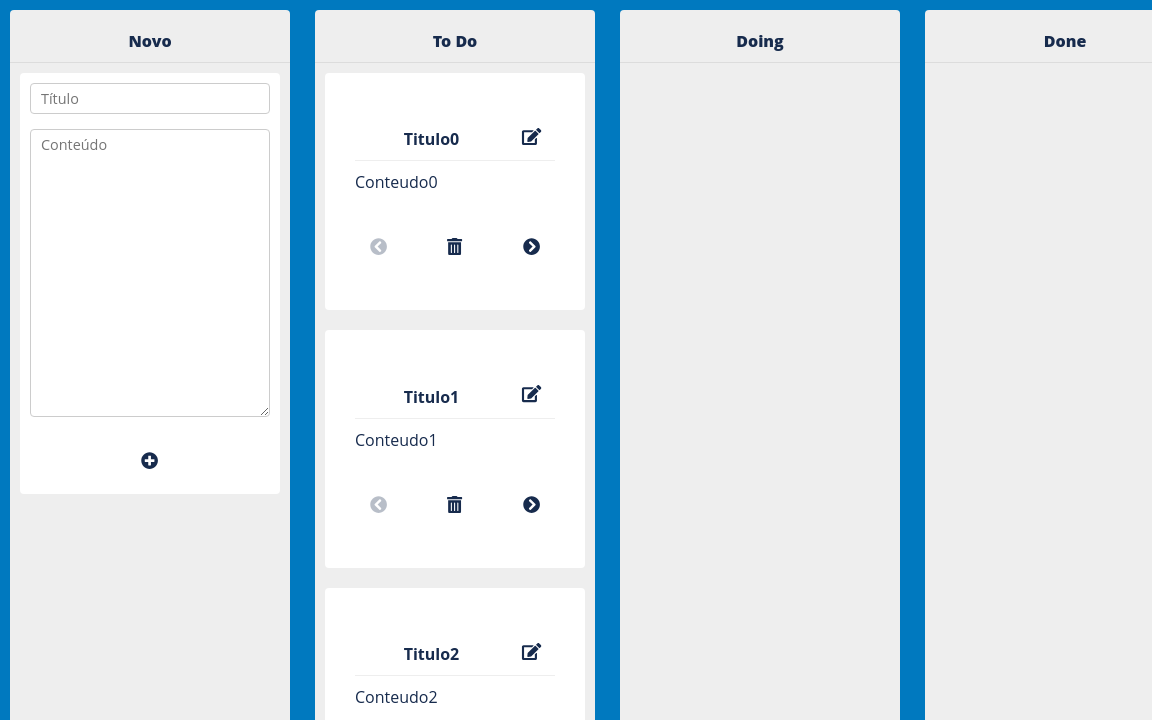
Render Board › Delete existing cards
Click the element titled "Excluir" below "Conteudo0" at x=455, y=247, box [441,233,469,260]
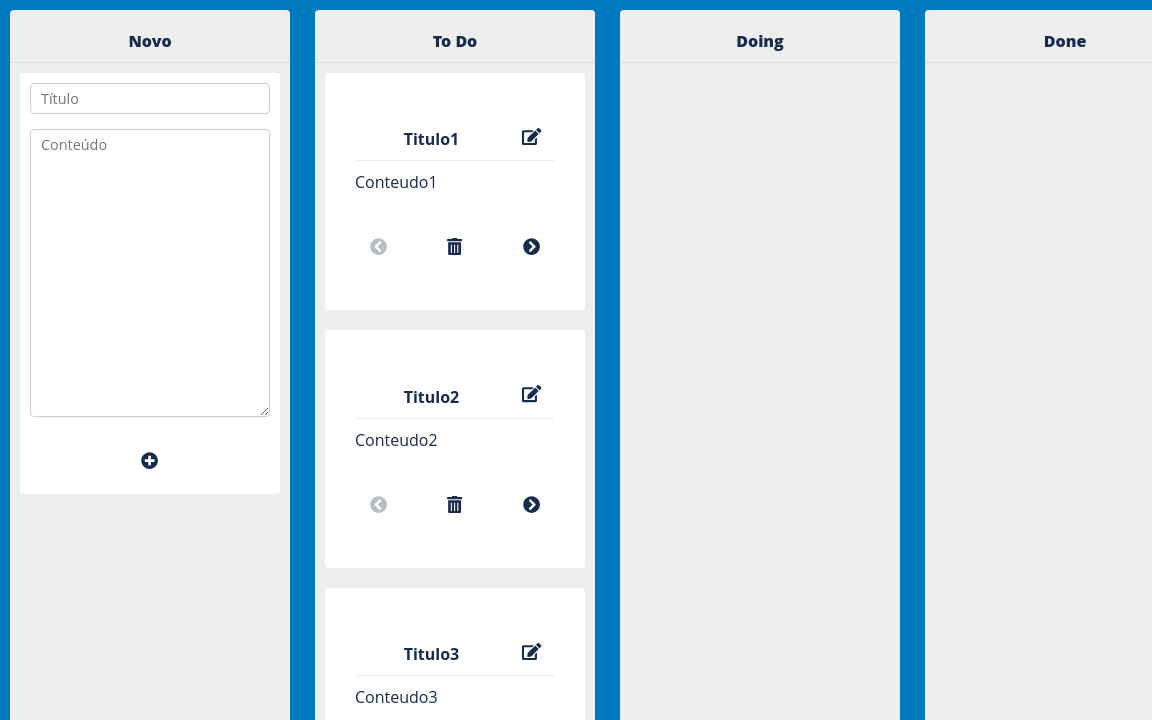
Click the element titled "Excluir" below "Conteudo1" at x=455, y=247, box [441,233,469,260]
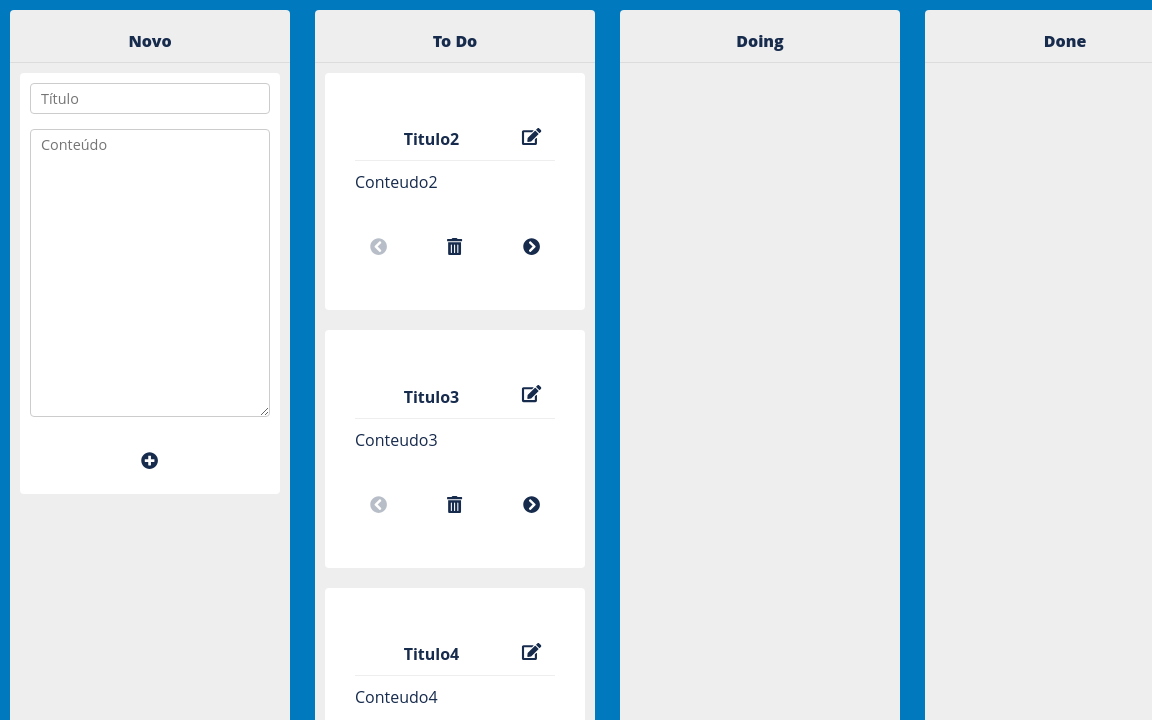
Click the element titled "Excluir" below "Conteudo2" at x=455, y=247, box [441,233,469,260]
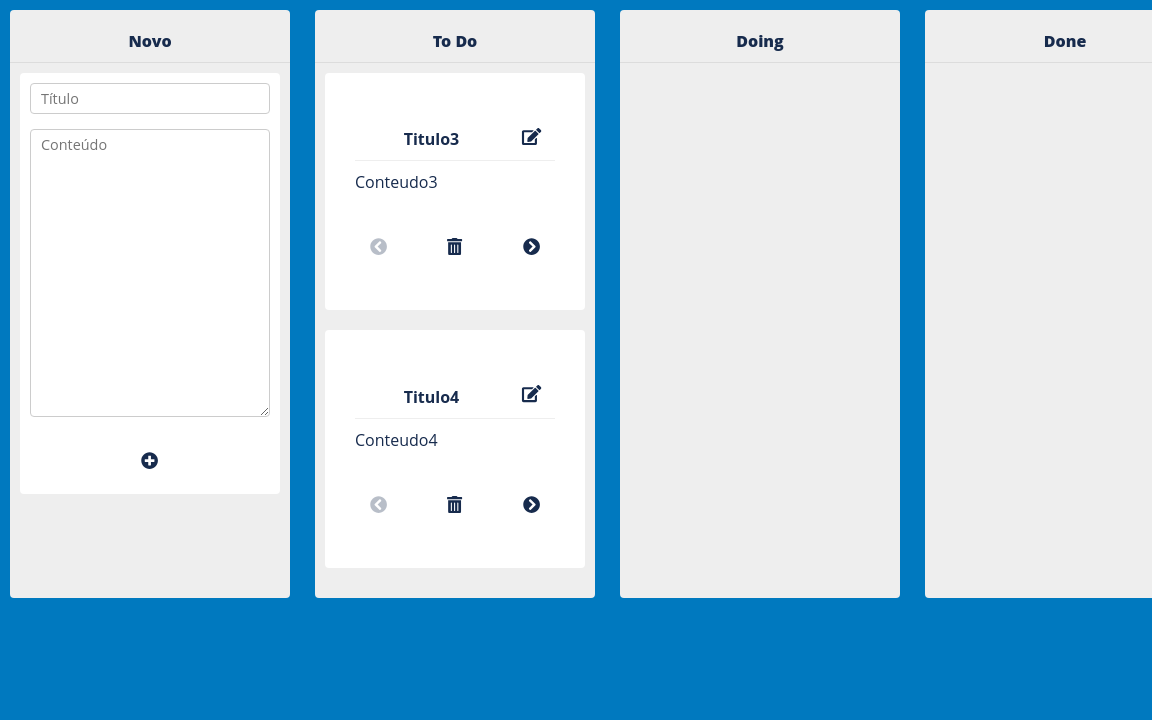
Click the element titled "Excluir" below "Conteudo3" at x=455, y=247, box [441,233,469,260]
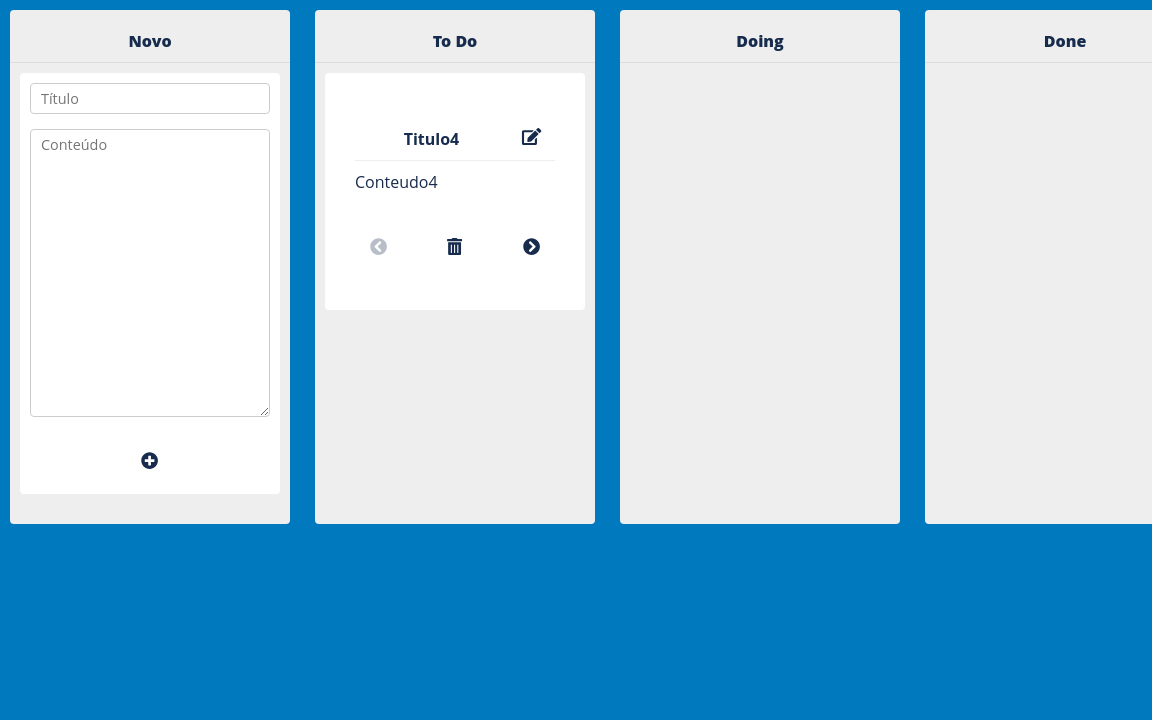
Click the element titled "Excluir" at x=455, y=247, box [441,233,469,260]
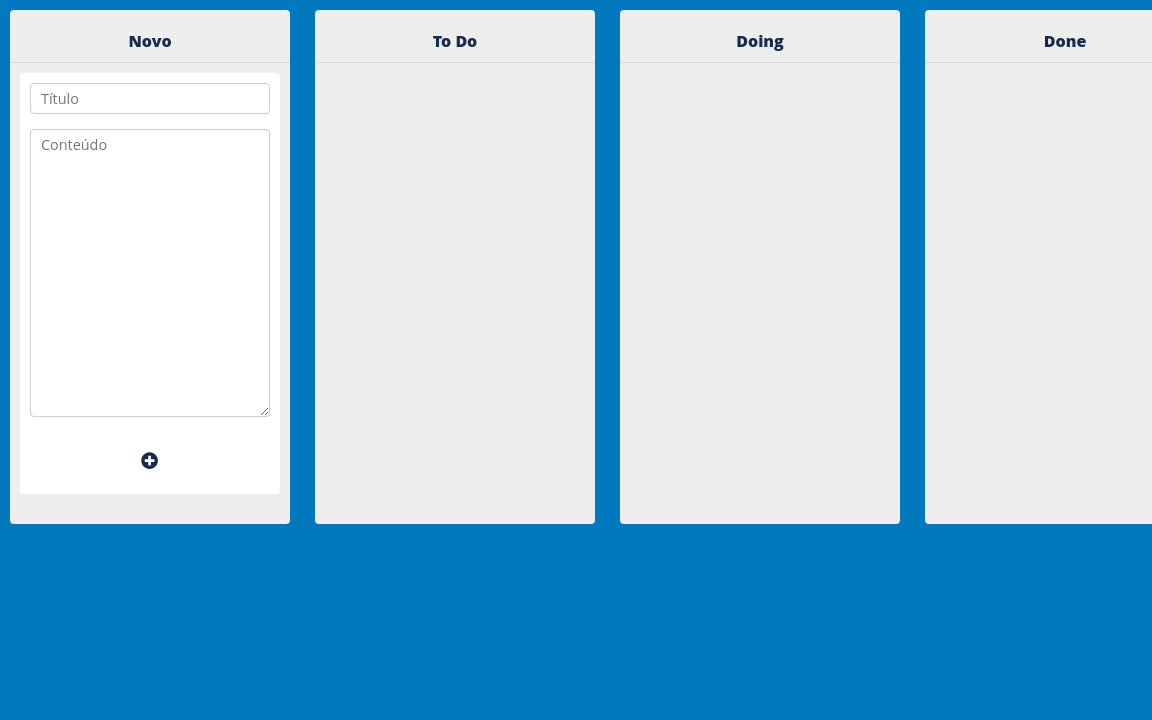
Now the element titled "Excluir" is gone
Now no elements titled "Excluir" are shown
